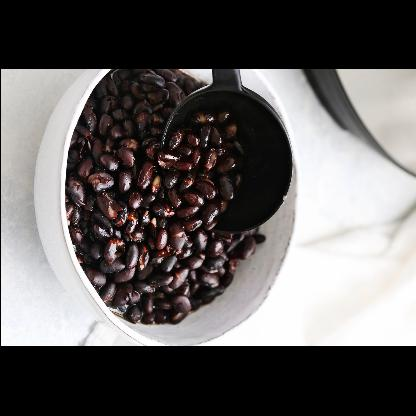black beans: (65, 70, 265, 326)
